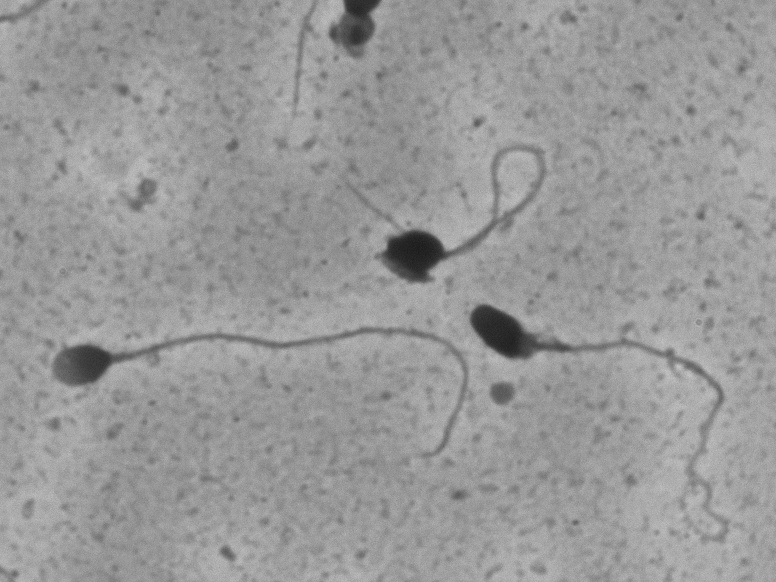Abnormal: (456, 299, 739, 557), (332, 113, 568, 292)
Normal: (25, 314, 482, 475)
